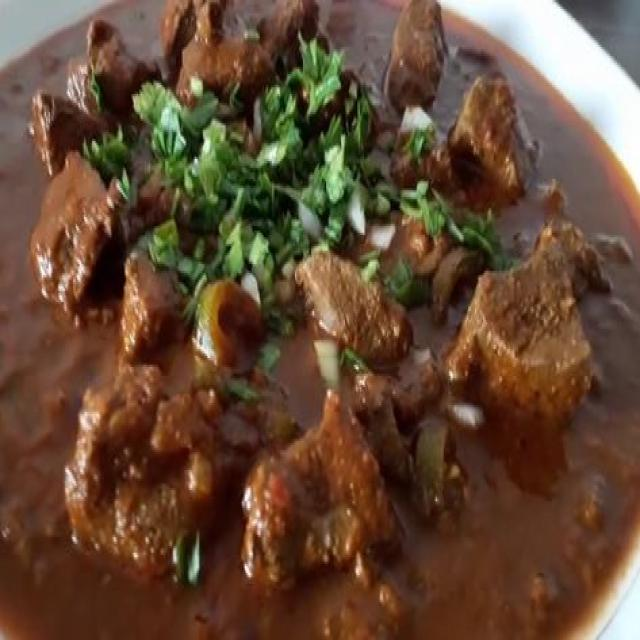kamouniya: (22, 23, 598, 632)
